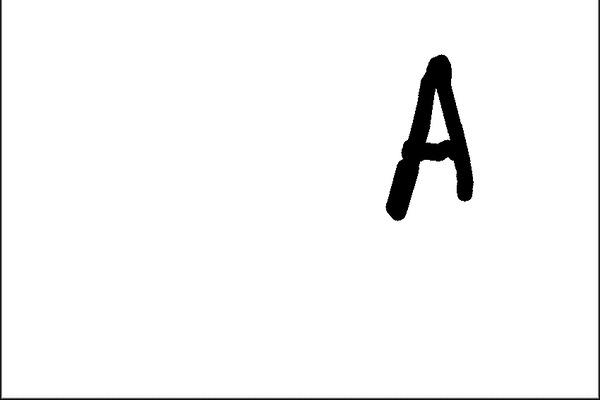A: (365, 49, 483, 220)
